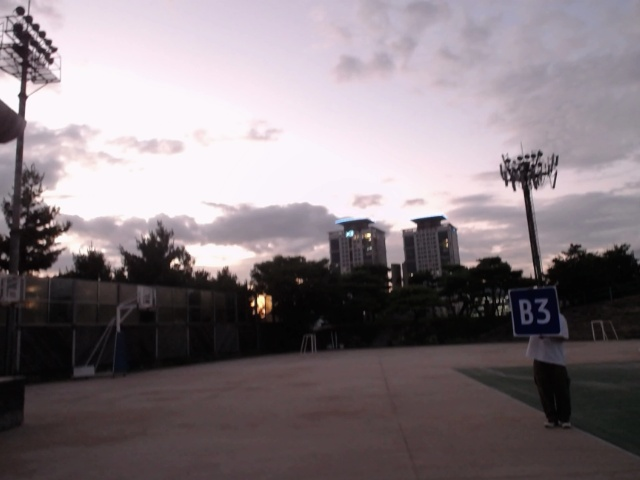delivery_b3: (508, 288, 562, 336)
